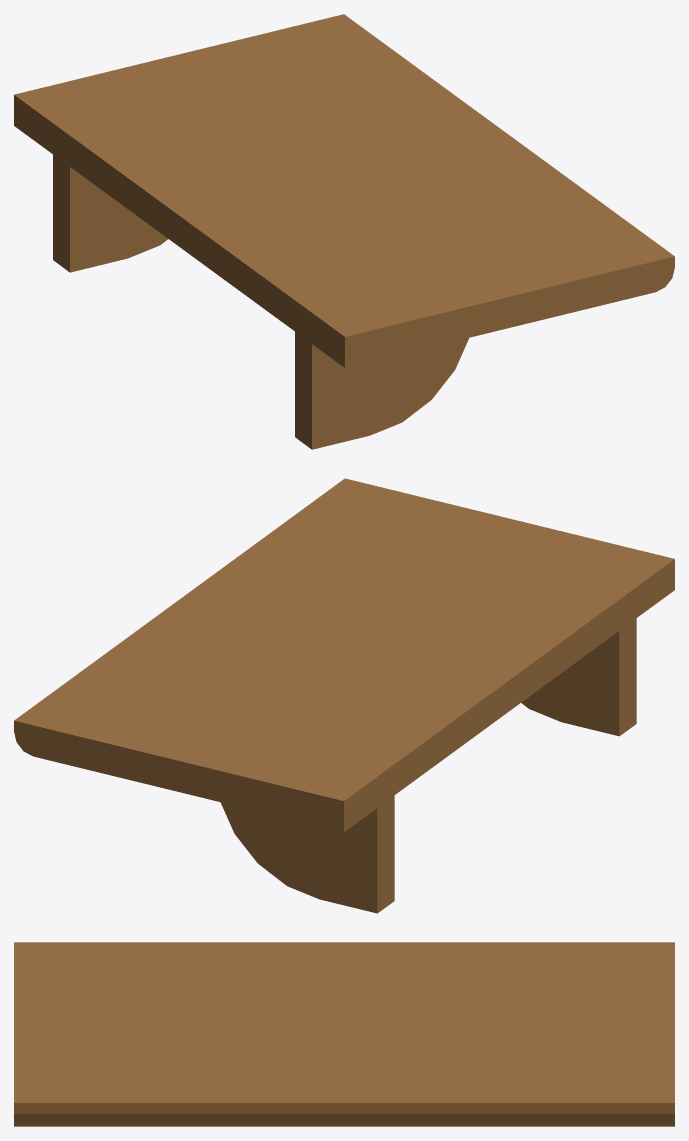
The model's file is Estante2.fbx.
The picture shows the model from 3 angles, top to bottom: view 1: azimuth 30°, elevation 25°; view 2: azimuth 150°, elevation 25°; view 3: azimuth 270°, elevation 25°; orthographic projection.
Parts seen in each view (by area): view 1: Cube, Cube.001, Cube.002; view 2: Cube, Cube.002, Cube.001; view 3: Cube.
Part boxes in pixels (x1=…): Cube: x1=14, y1=14, x2=674, y2=367; Cube.001: x1=295, y1=332, x2=468, y2=449; Cube.002: x1=53, y1=154, x2=167, y2=272; Cube: x1=14, y1=478, x2=674, y2=832; Cube.002: x1=220, y1=795, x2=394, y2=913; Cube.001: x1=521, y1=618, x2=636, y2=736; Cube: x1=14, y1=942, x2=674, y2=1126.
Bounding box in the file's own units: 115 × 46.52 × 200.
